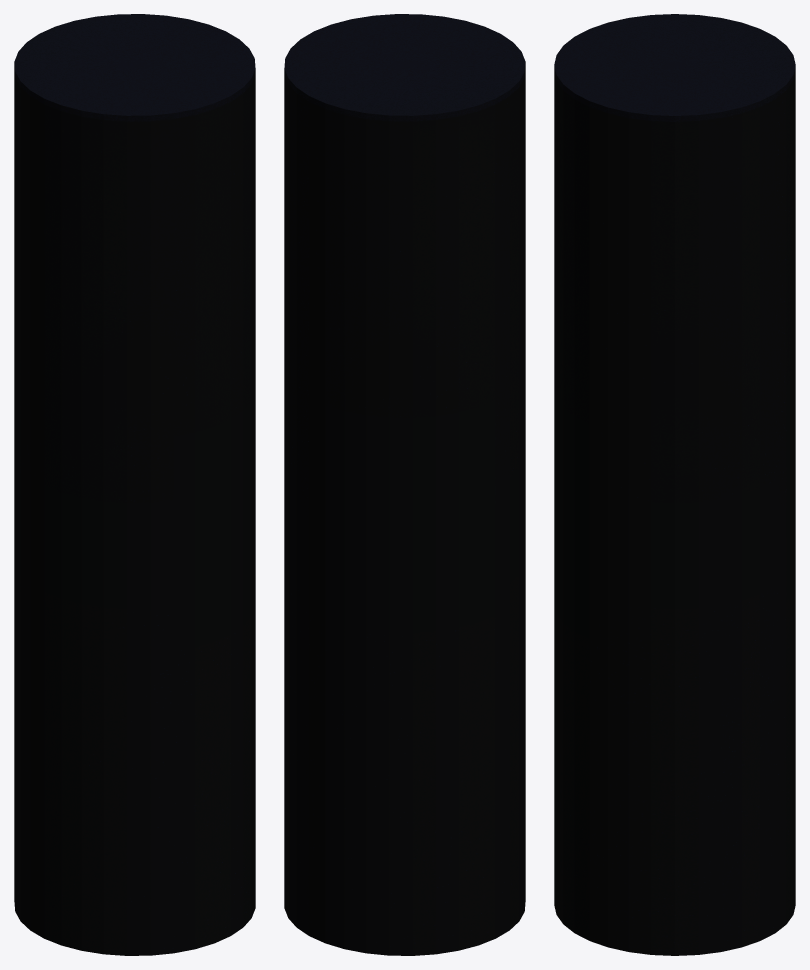
File: Pillar.obj
3 views of the same model, side by side, from view 1: azimuth 30°, elevation 25°; view 2: azimuth 150°, elevation 25°; view 3: azimuth 270°, elevation 25° (orthographic).
Parts seen in each view (by area): view 1: Cylinder_Cylinder.001; view 2: Cylinder_Cylinder.001; view 3: Cylinder_Cylinder.001.
Part boxes in pixels (x1,y1,x2,y2): Cylinder_Cylinder.001: (14, 14, 255, 955); Cylinder_Cylinder.001: (284, 14, 525, 955); Cylinder_Cylinder.001: (554, 14, 795, 955).
Bounding box in the file's own units: 0.45 × 1.73 × 0.45.
1 material, 1 textured.
